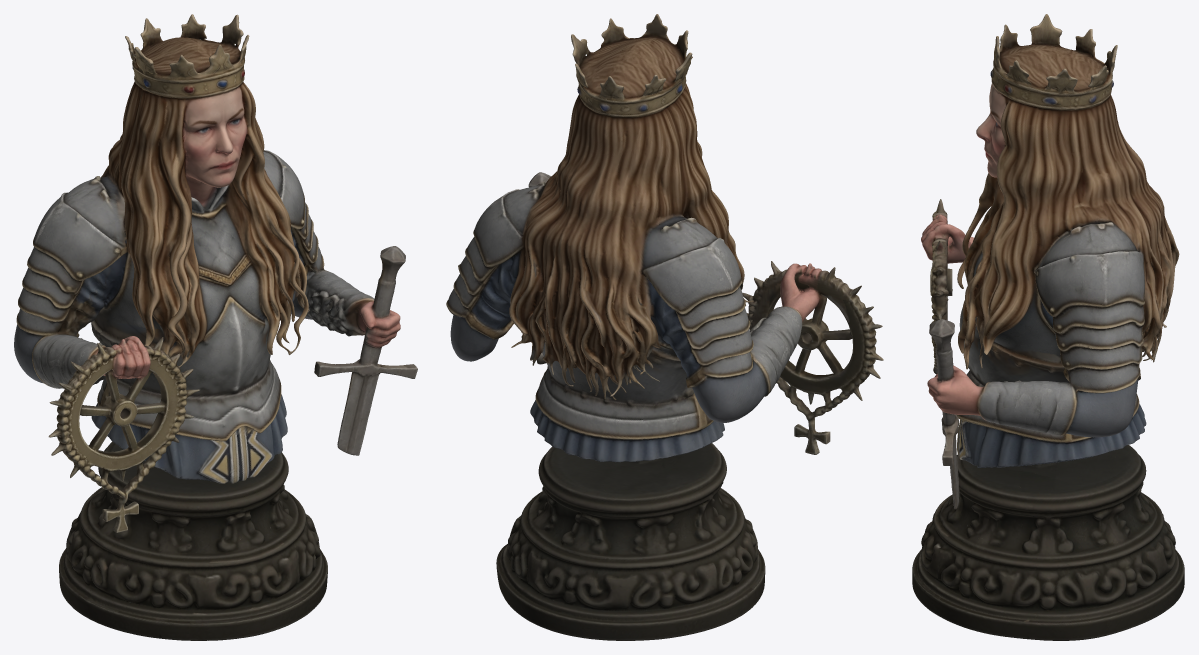
Rendered from modelkatrina1.glb.
3 views of the same model, side by side, from view 1: azimuth 30°, elevation 25°; view 2: azimuth 150°, elevation 25°; view 3: azimuth 270°, elevation 25° (orthographic).
Size of the model in its own units: 1.32 by 1.9 by 0.8531.
Materials: 1 (1 with a texture image).
